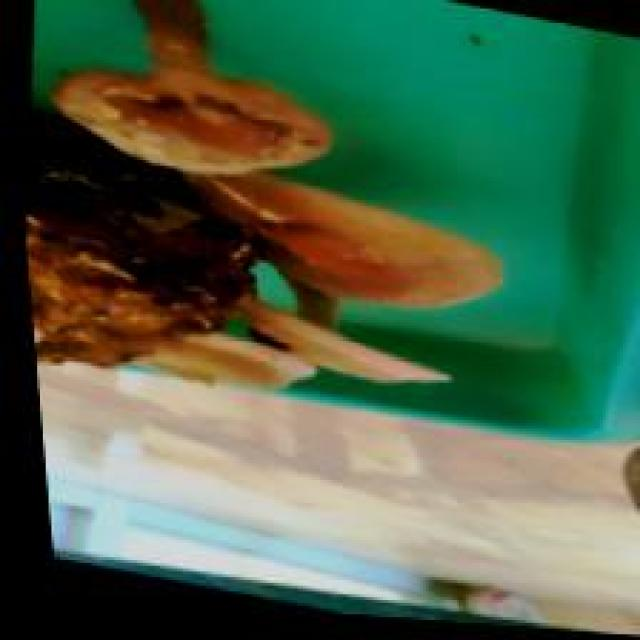chanterelle: (26, 0, 506, 391)
